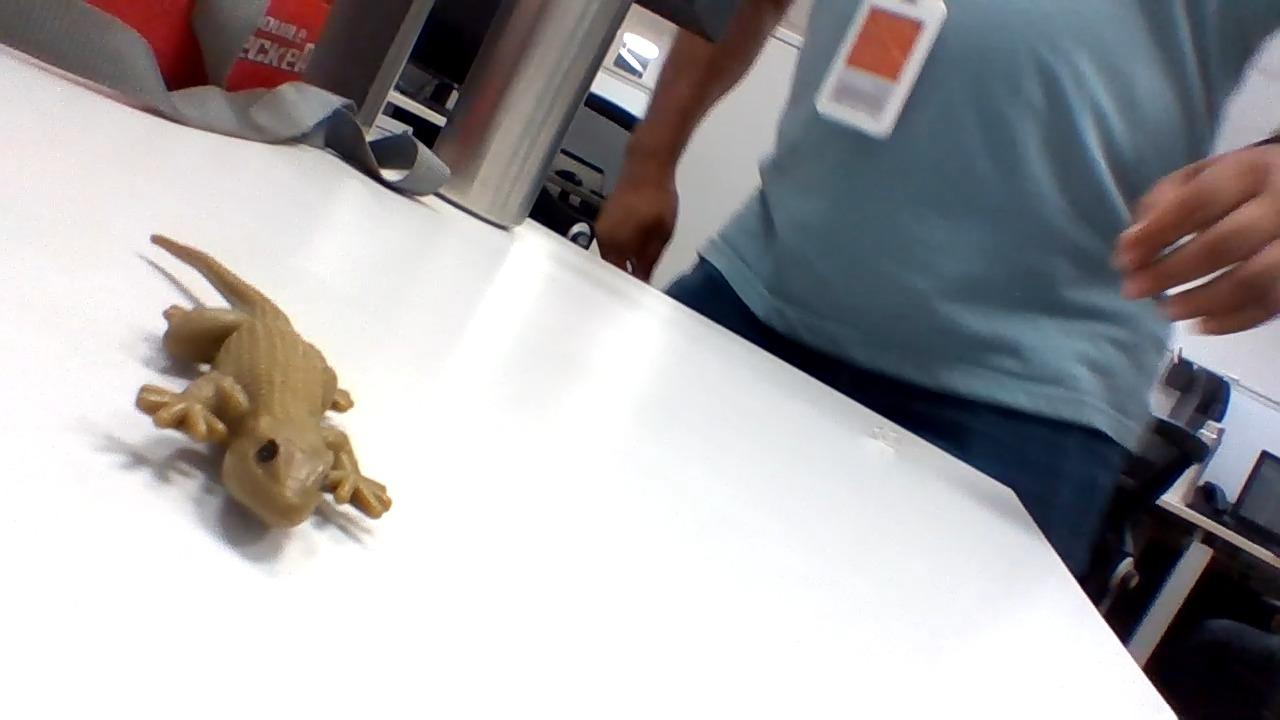lizard: (143, 218, 392, 529)
